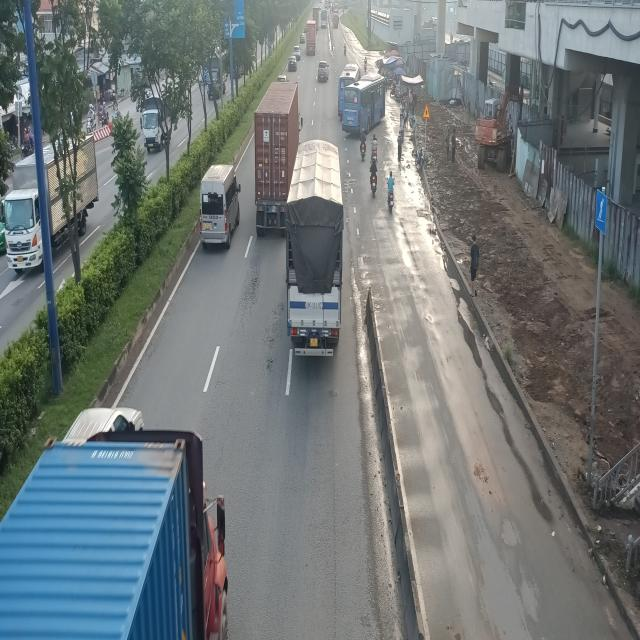coach: (339, 77, 386, 134)
container: (0, 430, 230, 640), (256, 79, 302, 237)
truck: (284, 136, 344, 357)
van: (200, 164, 243, 250)
